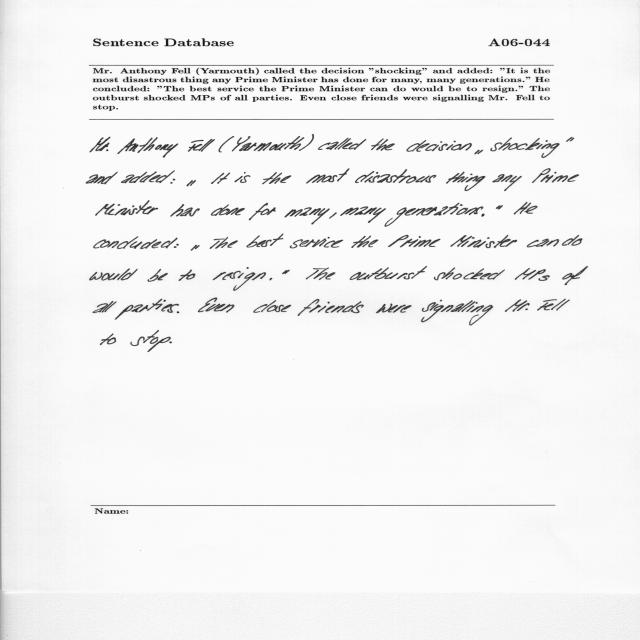word: (385, 203, 483, 227), (421, 300, 493, 326), (490, 138, 560, 158), (232, 135, 314, 152), (115, 299, 179, 320), (213, 267, 266, 291), (118, 138, 179, 158), (355, 169, 436, 184), (297, 299, 364, 316), (94, 236, 178, 249), (350, 266, 427, 280), (96, 200, 158, 216), (434, 268, 505, 281), (130, 330, 171, 352), (450, 235, 517, 248), (406, 140, 472, 152), (284, 208, 330, 225), (340, 206, 386, 223), (446, 172, 485, 191), (532, 168, 579, 183), (121, 171, 175, 184), (306, 169, 350, 184), (388, 235, 440, 247), (90, 268, 138, 281), (290, 237, 343, 248), (198, 298, 234, 313), (492, 174, 522, 191), (562, 266, 588, 285), (253, 300, 291, 313), (247, 234, 284, 247), (326, 138, 366, 150), (249, 203, 276, 220), (515, 268, 550, 281), (86, 172, 118, 185), (211, 204, 245, 216), (537, 299, 570, 311), (170, 204, 200, 217), (376, 304, 412, 314), (188, 139, 215, 152), (262, 172, 291, 184), (209, 237, 238, 249), (306, 268, 335, 280), (505, 299, 530, 312), (352, 236, 379, 248), (371, 138, 395, 151), (90, 137, 110, 152), (514, 202, 538, 214), (93, 301, 117, 313), (147, 269, 168, 282), (527, 239, 559, 247), (219, 136, 234, 152), (562, 235, 582, 246), (211, 173, 230, 184), (179, 270, 196, 281), (235, 172, 251, 183), (101, 334, 116, 345), (318, 142, 331, 150), (187, 180, 197, 186), (329, 212, 337, 219), (191, 245, 200, 251), (474, 150, 483, 155), (566, 137, 574, 142), (282, 270, 290, 274), (496, 205, 503, 209), (171, 179, 176, 184), (174, 244, 179, 248), (482, 213, 485, 217), (270, 278, 273, 280), (169, 342, 172, 344), (177, 311, 179, 313)
